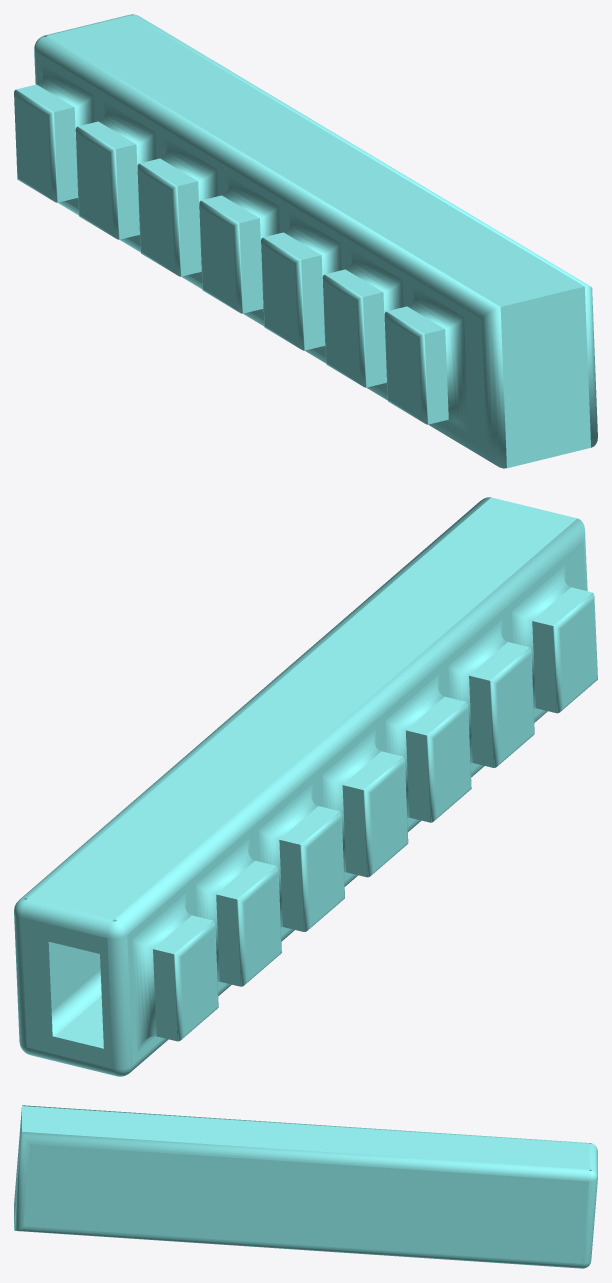
Rendered from original-12.obj.
3 views of the same model, one above another, from view 1: azimuth 30°, elevation 25°; view 2: azimuth 150°, elevation 25°; view 3: azimuth 270°, elevation 25° (orthographic). The views are drawn at different scales.
Visible parts, largest first — view 1: mesh62/mesh62-geometry#mesh62-geometry; view 2: mesh62/mesh62-geometry#mesh62-geometry; view 3: mesh62/mesh62-geometry#mesh62-geometry.
Part boxes in pixels (<box>): mesh62/mesh62-geometry#mesh62-geometry: <box>14,14,597,468</box>; mesh62/mesh62-geometry#mesh62-geometry: <box>14,497,597,1076</box>; mesh62/mesh62-geometry#mesh62-geometry: <box>14,1105,597,1268</box>.
Size of the model in its own units: 0.0339 by 0.0484 by 0.1882.
